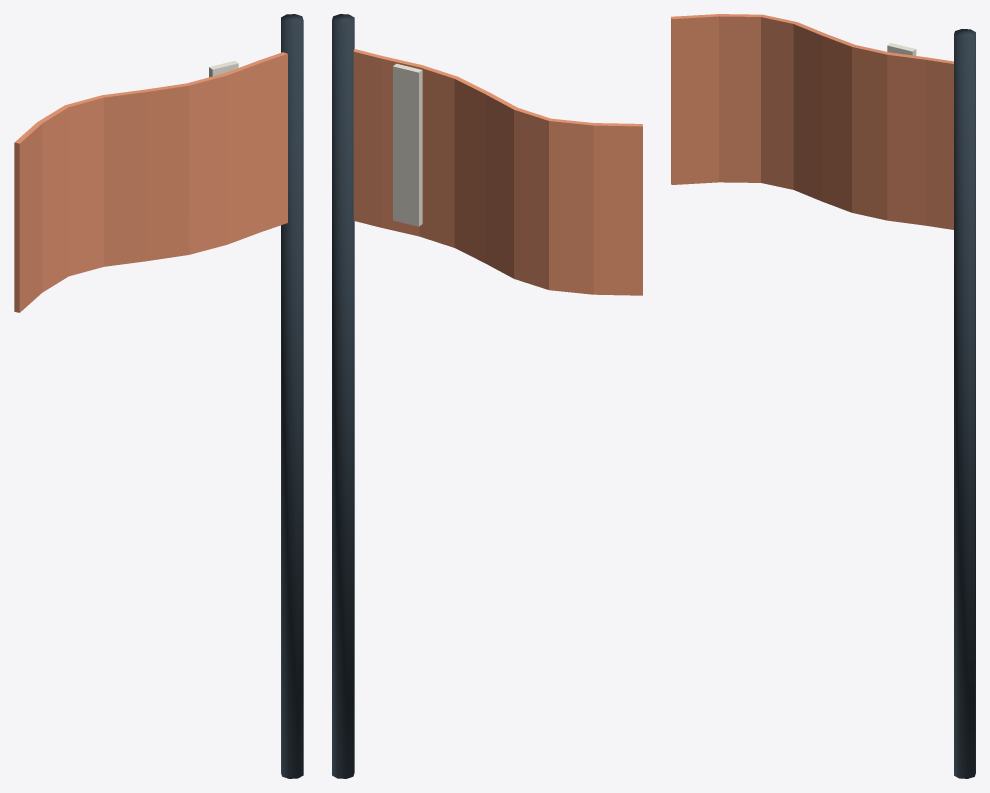
The model's file is Flag.fbx.
The picture shows the model from 3 angles, left to right: view 1: azimuth 30°, elevation 25°; view 2: azimuth 150°, elevation 25°; view 3: azimuth 330°, elevation 25°; orthographic projection.
Visible parts, largest first — view 1: Visual_Flag; view 2: Visual_Flag; view 3: Visual_Flag.
Boxes of the visible parts, x1,y1,x2,y2 form: Visual_Flag: [14, 14, 303, 778]; Visual_Flag: [332, 14, 642, 778]; Visual_Flag: [671, 14, 975, 778].
Size of the model in its own units: 1.04 by 2.5 by 0.1453.
